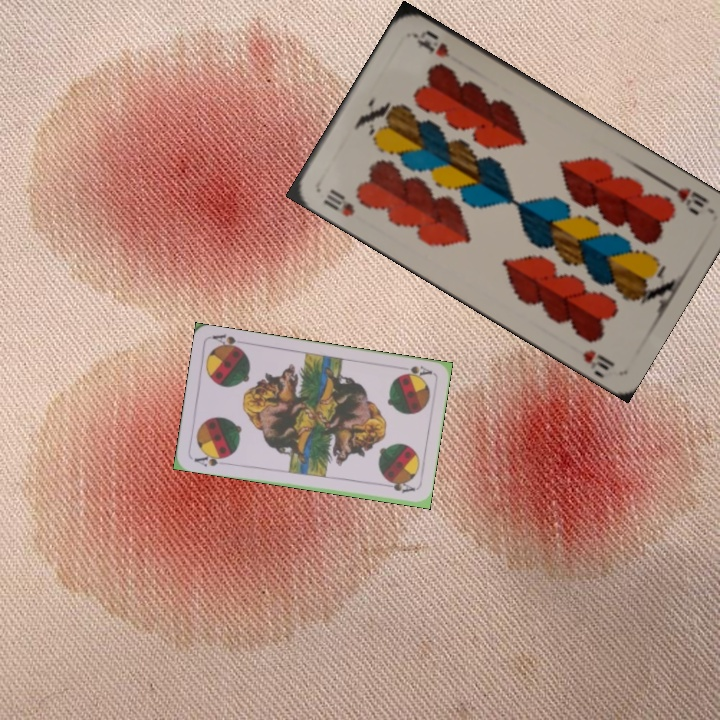H10: (660, 178, 712, 218), (318, 184, 358, 220)
SA: (190, 449, 231, 469), (394, 361, 435, 381)
